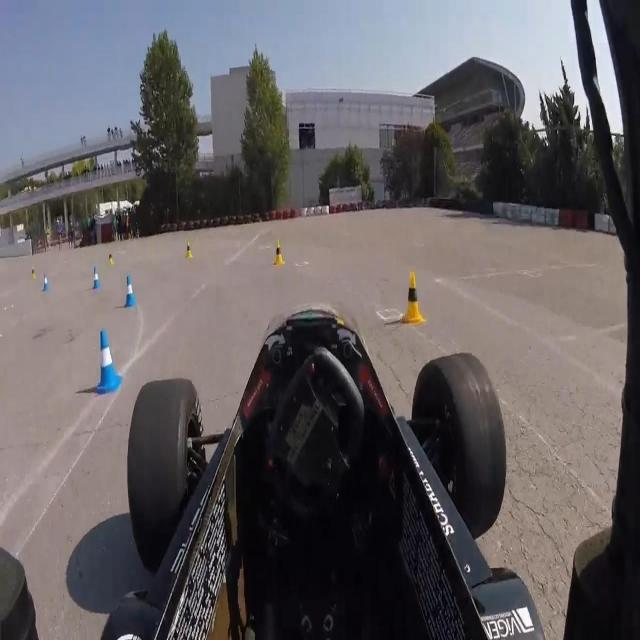blue_cone: (94, 329, 121, 396), (123, 275, 136, 309), (92, 266, 100, 290), (42, 273, 51, 294)
yellow_cone: (399, 270, 424, 324), (274, 241, 285, 267), (184, 242, 194, 262), (29, 264, 37, 283), (107, 252, 114, 268)
